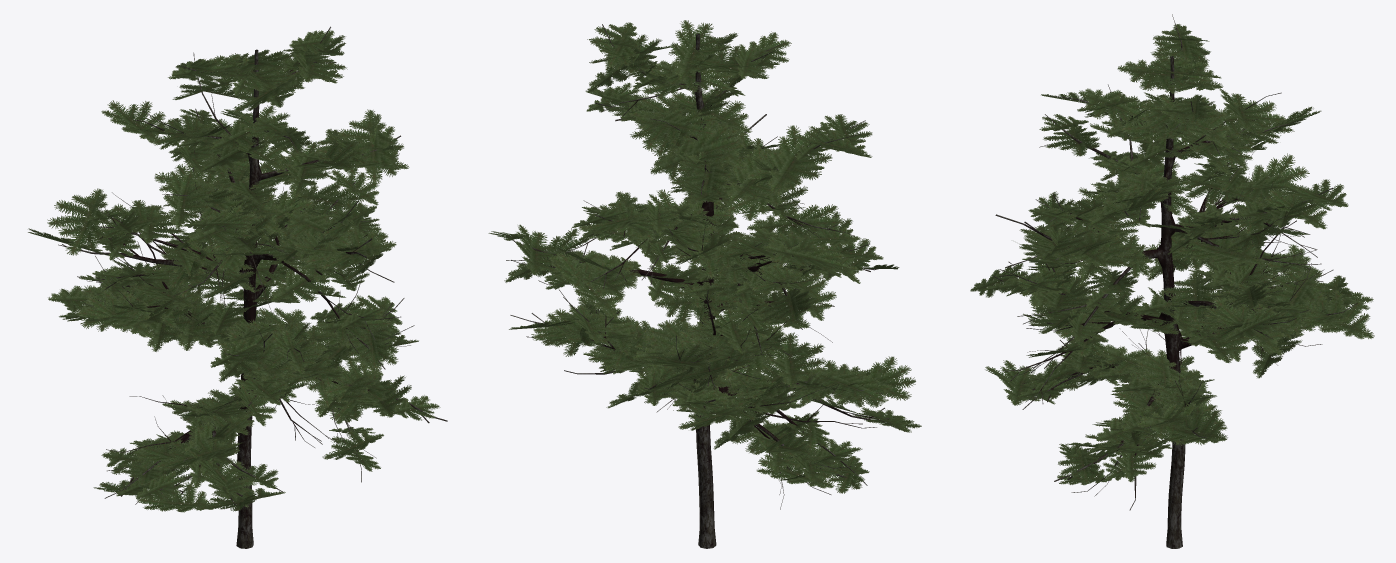
The model's file is Normal_Pine_JOINED.fbx.
The picture shows the model from 3 angles, left to right: view 1: azimuth 30°, elevation 25°; view 2: azimuth 150°, elevation 25°; view 3: azimuth 270°, elevation 25°; orthographic projection. The views are drawn at different scales.
Visible parts, largest first — view 1: tree_003_pngtree_natural_pine_tree_branch_close_up_elem_2667, Normal_Pine; view 2: tree_003_pngtree_natural_pine_tree_branch_close_up_elem_2667, Normal_Pine; view 3: tree_003_pngtree_natural_pine_tree_branch_close_up_elem_2667, Normal_Pine.
Part boxes in pixels (<box>): tree_003_pngtree_natural_pine_tree_branch_close_up_elem_2667: <box>28,29,440,512</box>; Normal_Pine: <box>58,26,447,548</box>; tree_003_pngtree_natural_pine_tree_branch_close_up_elem_2667: <box>488,20,921,493</box>; Normal_Pine: <box>506,24,897,548</box>; tree_003_pngtree_natural_pine_tree_branch_close_up_elem_2667: <box>970,24,1374,485</box>; Normal_Pine: <box>993,14,1357,548</box>.
Size of the model in its own units: 1536 by 2110 by 1598.
